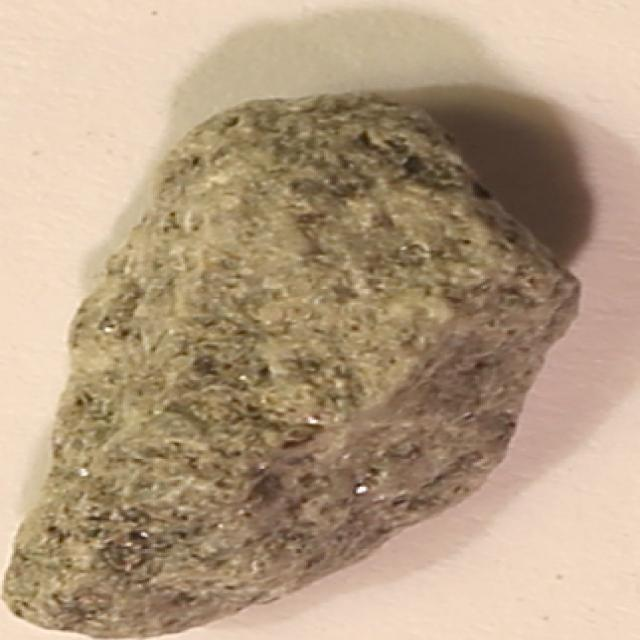stone: (10, 96, 636, 636)
